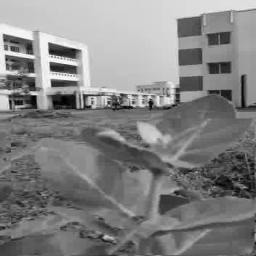Calotropis: (11, 118, 255, 256), (158, 82, 255, 139)
